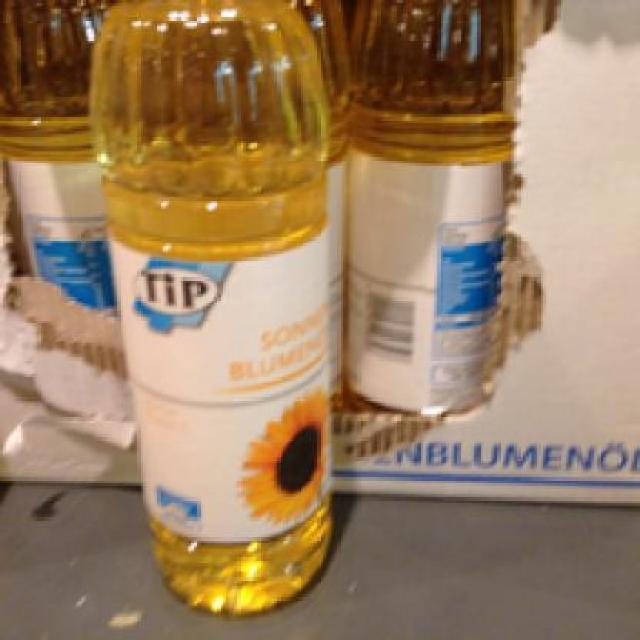Oil: (84, 0, 332, 612), (336, 0, 518, 412)
